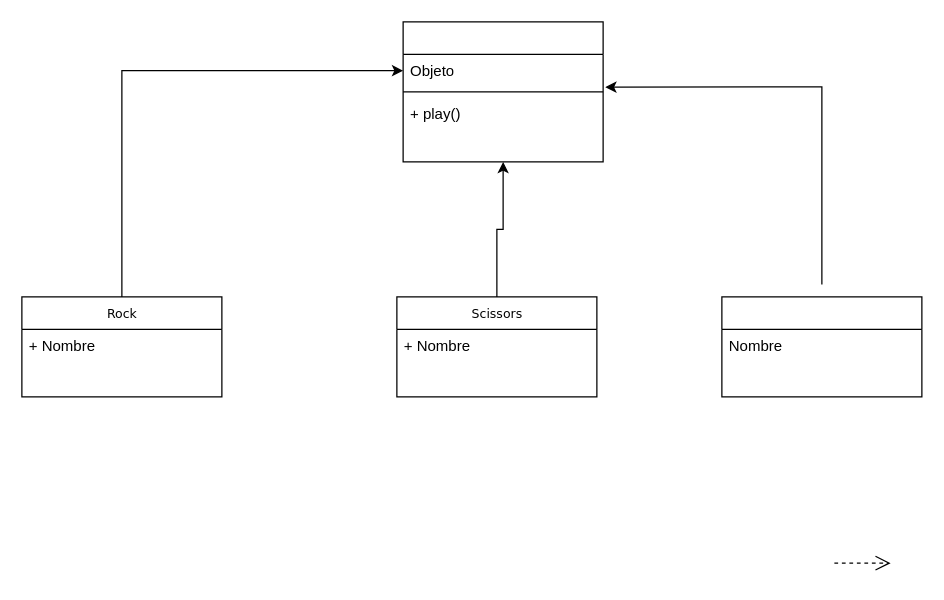
Some shapes in this 944 by 600 pixel diagram are drawn without their labels. The box of each missing label's shape, as (x1, y1, x2, y2) in pixels:
Game: (402, 21, 603, 162)
Paper: (721, 296, 922, 397)
